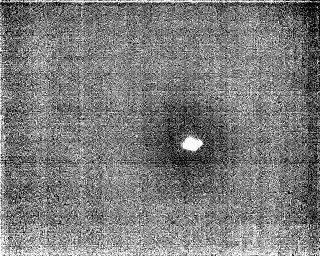AIRPLANE: (179, 131, 205, 155)
